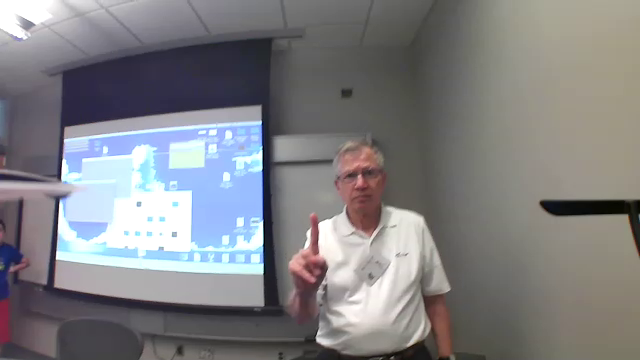up: (281, 209, 334, 295)
